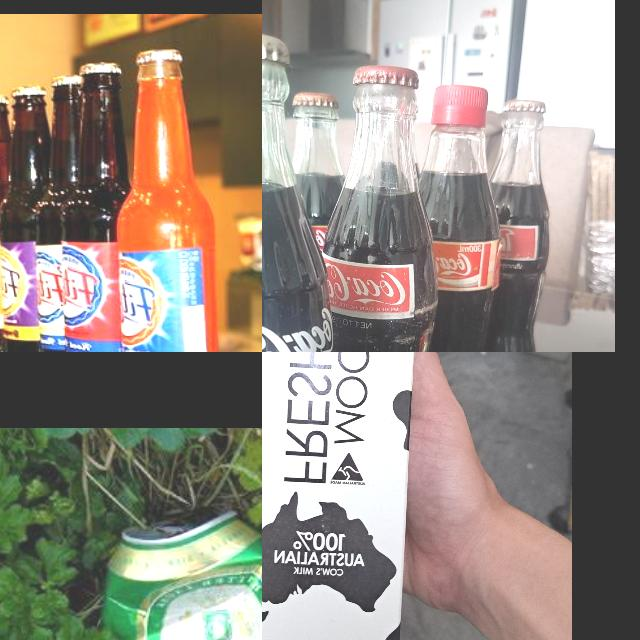caixinha: (262, 352, 419, 640)
garrafa de vidro: (311, 63, 431, 352), (119, 49, 218, 352), (419, 83, 503, 352), (262, 26, 331, 352), (63, 62, 131, 352), (481, 101, 551, 352), (32, 76, 84, 352), (2, 85, 50, 352), (287, 90, 345, 230), (0, 95, 14, 352)
lata: (103, 505, 262, 640)
